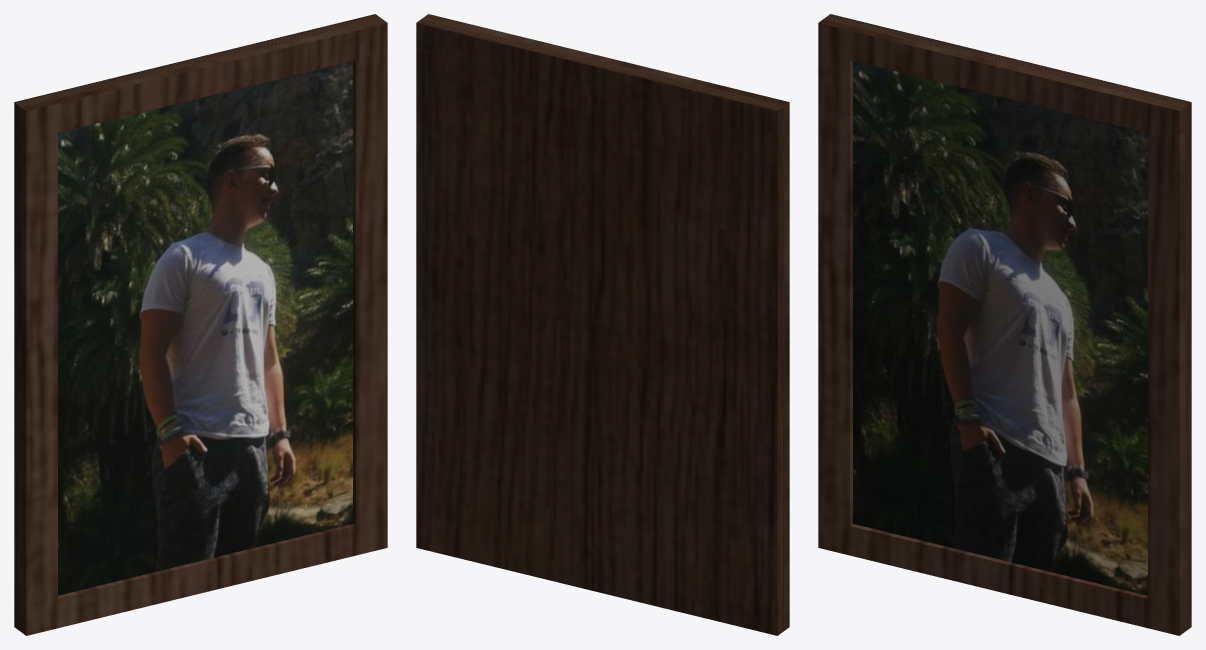
File: picture2.fbx
3 renders of one model, left to right at view 1: azimuth 30°, elevation 25°; view 2: azimuth 150°, elevation 25°; view 3: azimuth 330°, elevation 25°, orthographic.
Visible parts, largest first — view 1: Cube.001, Cube.002; view 2: Cube.002; view 3: Cube.001, Cube.002.
Boxes of the visible parts, bbox=[...] form: Cube.001: bbox=[58, 61, 352, 595]; Cube.002: bbox=[14, 14, 387, 635]; Cube.002: bbox=[416, 14, 789, 635]; Cube.001: bbox=[853, 61, 1147, 595]; Cube.002: bbox=[818, 14, 1191, 635].
Bounding box in the file's own units: 232 × 322 × 13.64.
